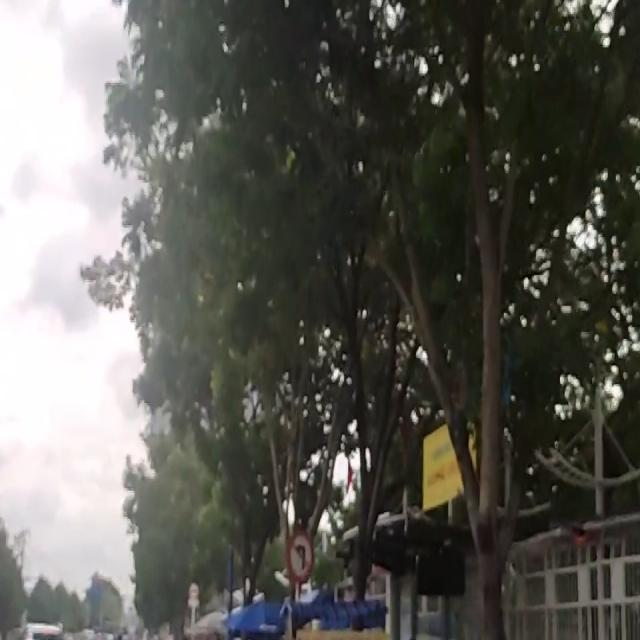Bien bao cam re trai: (284, 524, 315, 584)
